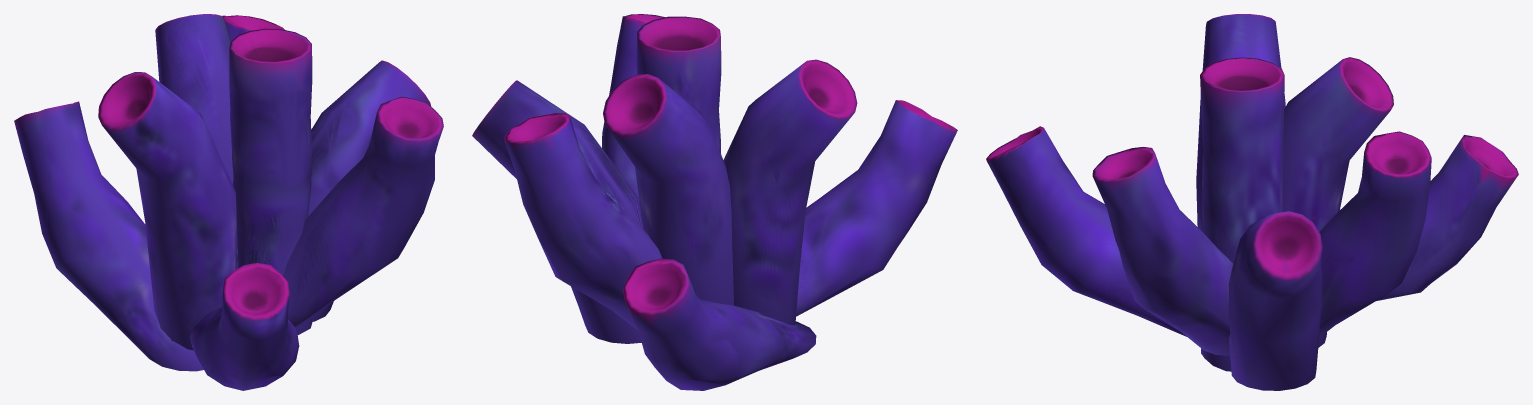
Rendered from Coral02.fbx.
The picture shows the model from 3 angles, left to right: view 1: azimuth 30°, elevation 25°; view 2: azimuth 150°, elevation 25°; view 3: azimuth 270°, elevation 25°; orthographic projection. The views are drawn at different scales.
Visible parts, largest first — view 1: Coral02; view 2: Coral02; view 3: Coral02.
Part boxes in pixels (left/top/right/bottom): Coral02: left=14, top=14, right=443, bottom=390; Coral02: left=472, top=14, right=957, bottom=390; Coral02: left=986, top=14, right=1518, bottom=390.
Bounding box in the file's own units: 106 × 84.23 × 143.
